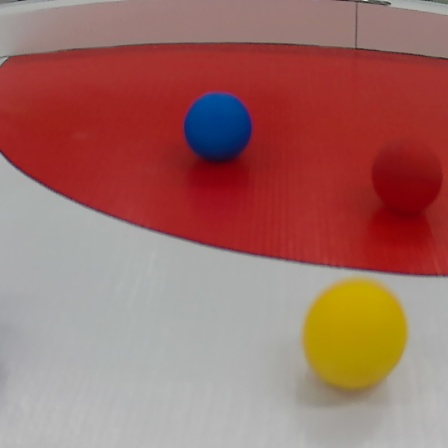blue: (184, 91, 254, 162)
red: (368, 139, 445, 219)
red_base: (1, 43, 445, 282)
yellow: (299, 273, 410, 393)
